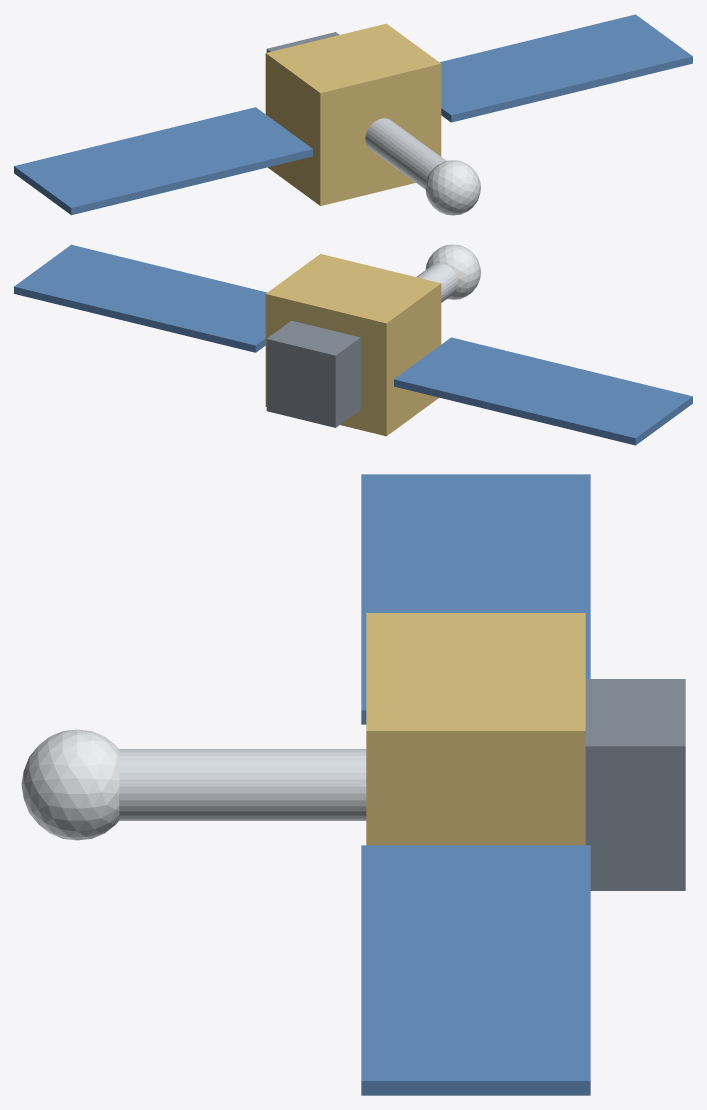
The model's file is earth_observation.glb.
The picture shows the model from 3 angles, top to bottom: view 1: azimuth 30°, elevation 25°; view 2: azimuth 150°, elevation 25°; view 3: azimuth 270°, elevation 25°; orthographic projection. The views are drawn at different scales.
Visible parts, largest first — view 1: earth_observation_0, earth_observation_2, earth_observation_3, earth_observation_4, earth_observation_5, earth_observation_1; view 2: earth_observation_0, earth_observation_2, earth_observation_3, earth_observation_1, earth_observation_5, earth_observation_4; view 3: earth_observation_3, earth_observation_0, earth_observation_2, earth_observation_1, earth_observation_4, earth_observation_5.
Part boxes in pixels (box(x1,y1,x2,y2)): earth_observation_0: box(265, 23, 441, 205); earth_observation_2: box(14, 107, 312, 215); earth_observation_3: box(440, 14, 692, 122); earth_observation_4: box(365, 118, 446, 189); earth_observation_5: box(425, 160, 480, 215); earth_observation_1: box(266, 32, 339, 52); earth_observation_0: box(265, 254, 441, 436); earth_observation_2: box(394, 337, 692, 445); earth_observation_3: box(14, 244, 267, 352); earth_observation_1: box(266, 320, 360, 427); earth_observation_5: box(425, 244, 480, 299); earth_observation_4: box(416, 263, 458, 302); earth_observation_3: box(361, 845, 590, 1095); earth_observation_0: box(366, 613, 585, 845); earth_observation_2: box(361, 474, 590, 724); earth_observation_1: box(585, 679, 685, 890); earth_observation_4: box(119, 749, 366, 820); earth_observation_5: box(21, 729, 119, 840).
Size of the model in its own units: 7.2 by 1.25 by 3.33.
